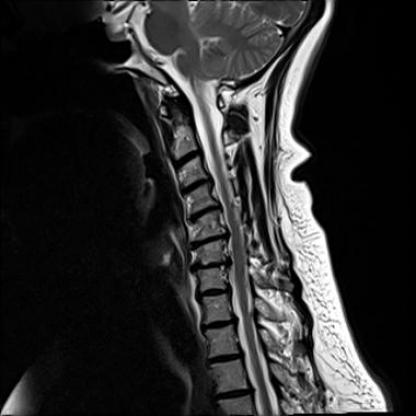Disc Bulgerotation: (190, 257, 233, 273), (187, 234, 234, 247)
